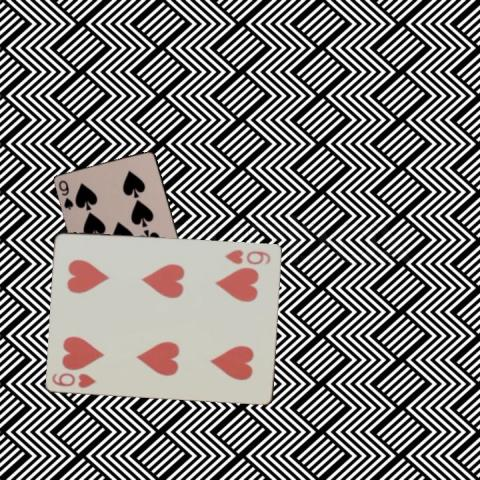6h: (222, 246, 273, 266), (50, 370, 98, 390)
9s: (56, 178, 75, 212)
